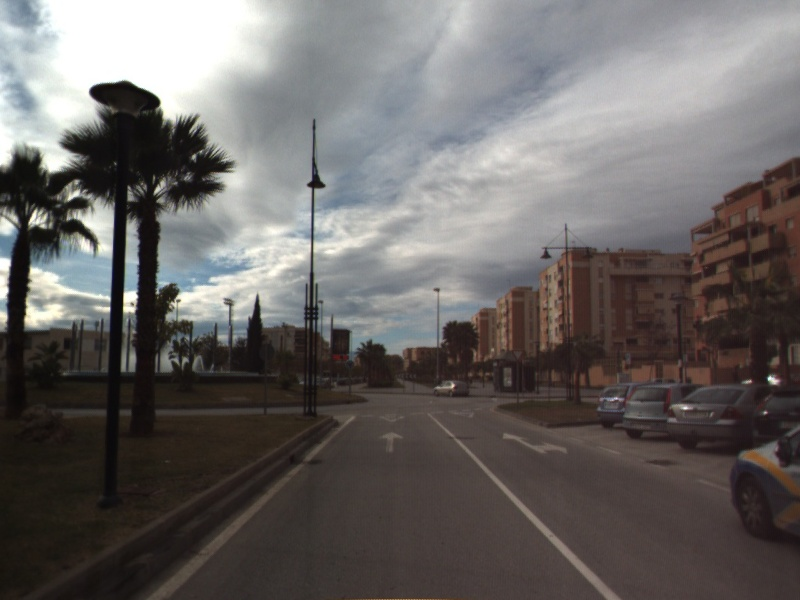STRAIGHT: (377, 429, 406, 454)
STRAIGHT_RIGHT: (501, 431, 569, 456)
